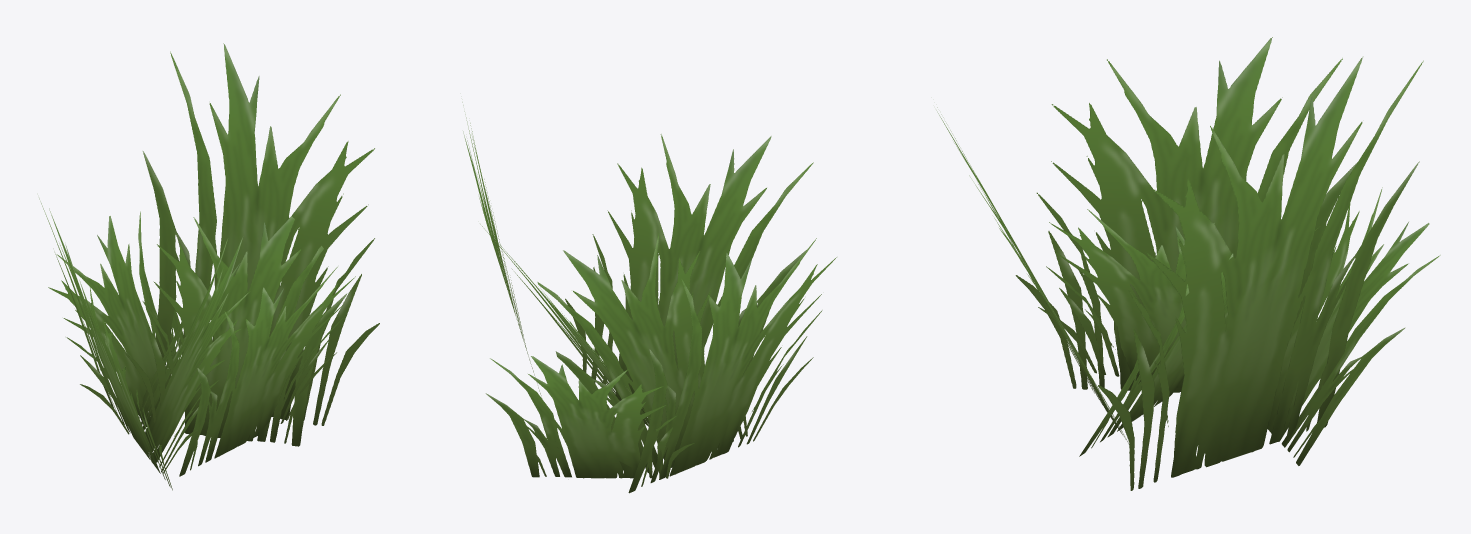
File: Grass_03.fbx
The picture shows the model from 3 angles, left to right: view 1: azimuth 30°, elevation 25°; view 2: azimuth 150°, elevation 25°; view 3: azimuth 270°, elevation 25°; orthographic projection. The views are drawn at different scales.
Parts seen in each view (by area): view 1: Grass_03; view 2: Grass_03; view 3: Grass_03.
Part boxes in pixels (bbox=[...]): Grass_03: bbox=[39, 43, 379, 490]; Grass_03: bbox=[462, 102, 836, 493]; Grass_03: bbox=[936, 37, 1440, 490].
Size of the model in its own units: 0.6631 by 0.6298 by 0.658.
